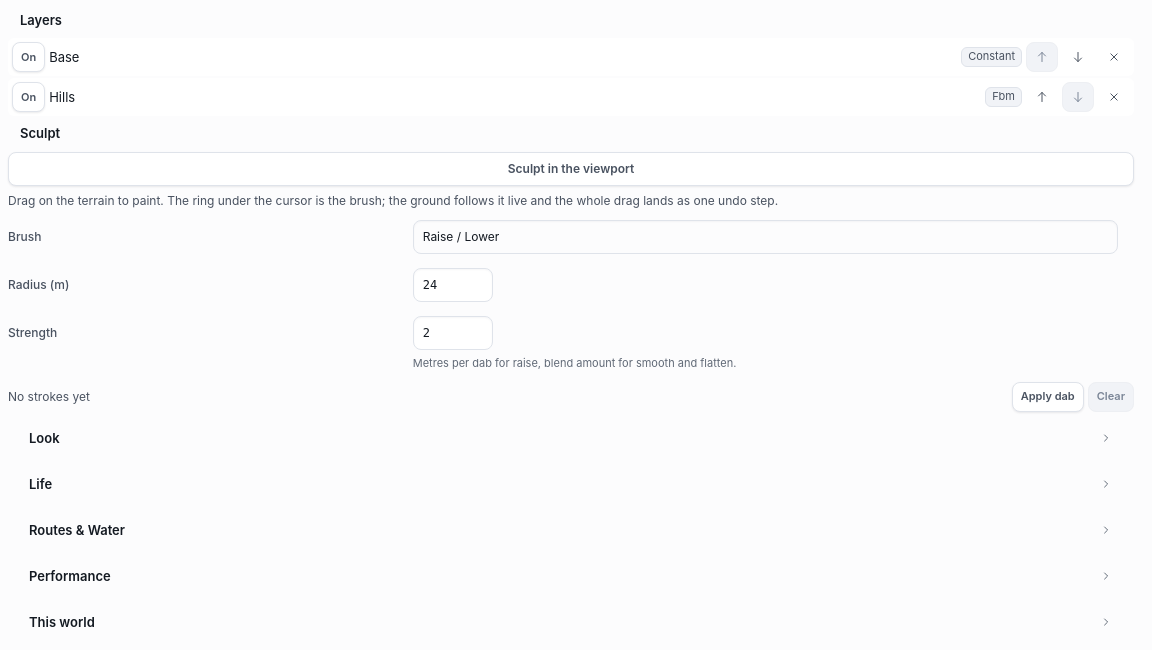
Test: sections are collapsed by default and open on demand
(page scrolled)
Expected: the element with test id "terrain-layers" is shown, [8,38,1134,116]
Step 1. Click the button with test id "terrain-section-perf" → (70, 576), box [20,562,1122,592]
(page scrolled)
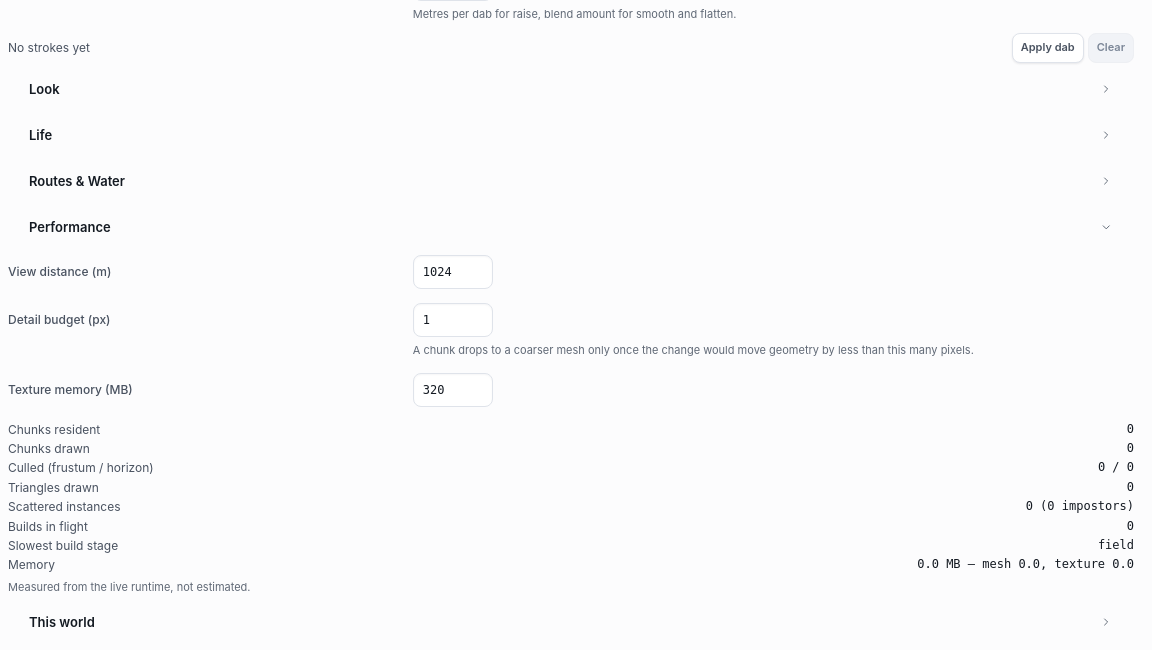
Result: the button with test id "terrain-section-perf" is expanded at [20,213,1122,243]
Result: the element with test id "terrain-stats" is shown at [8,417,1134,574]
